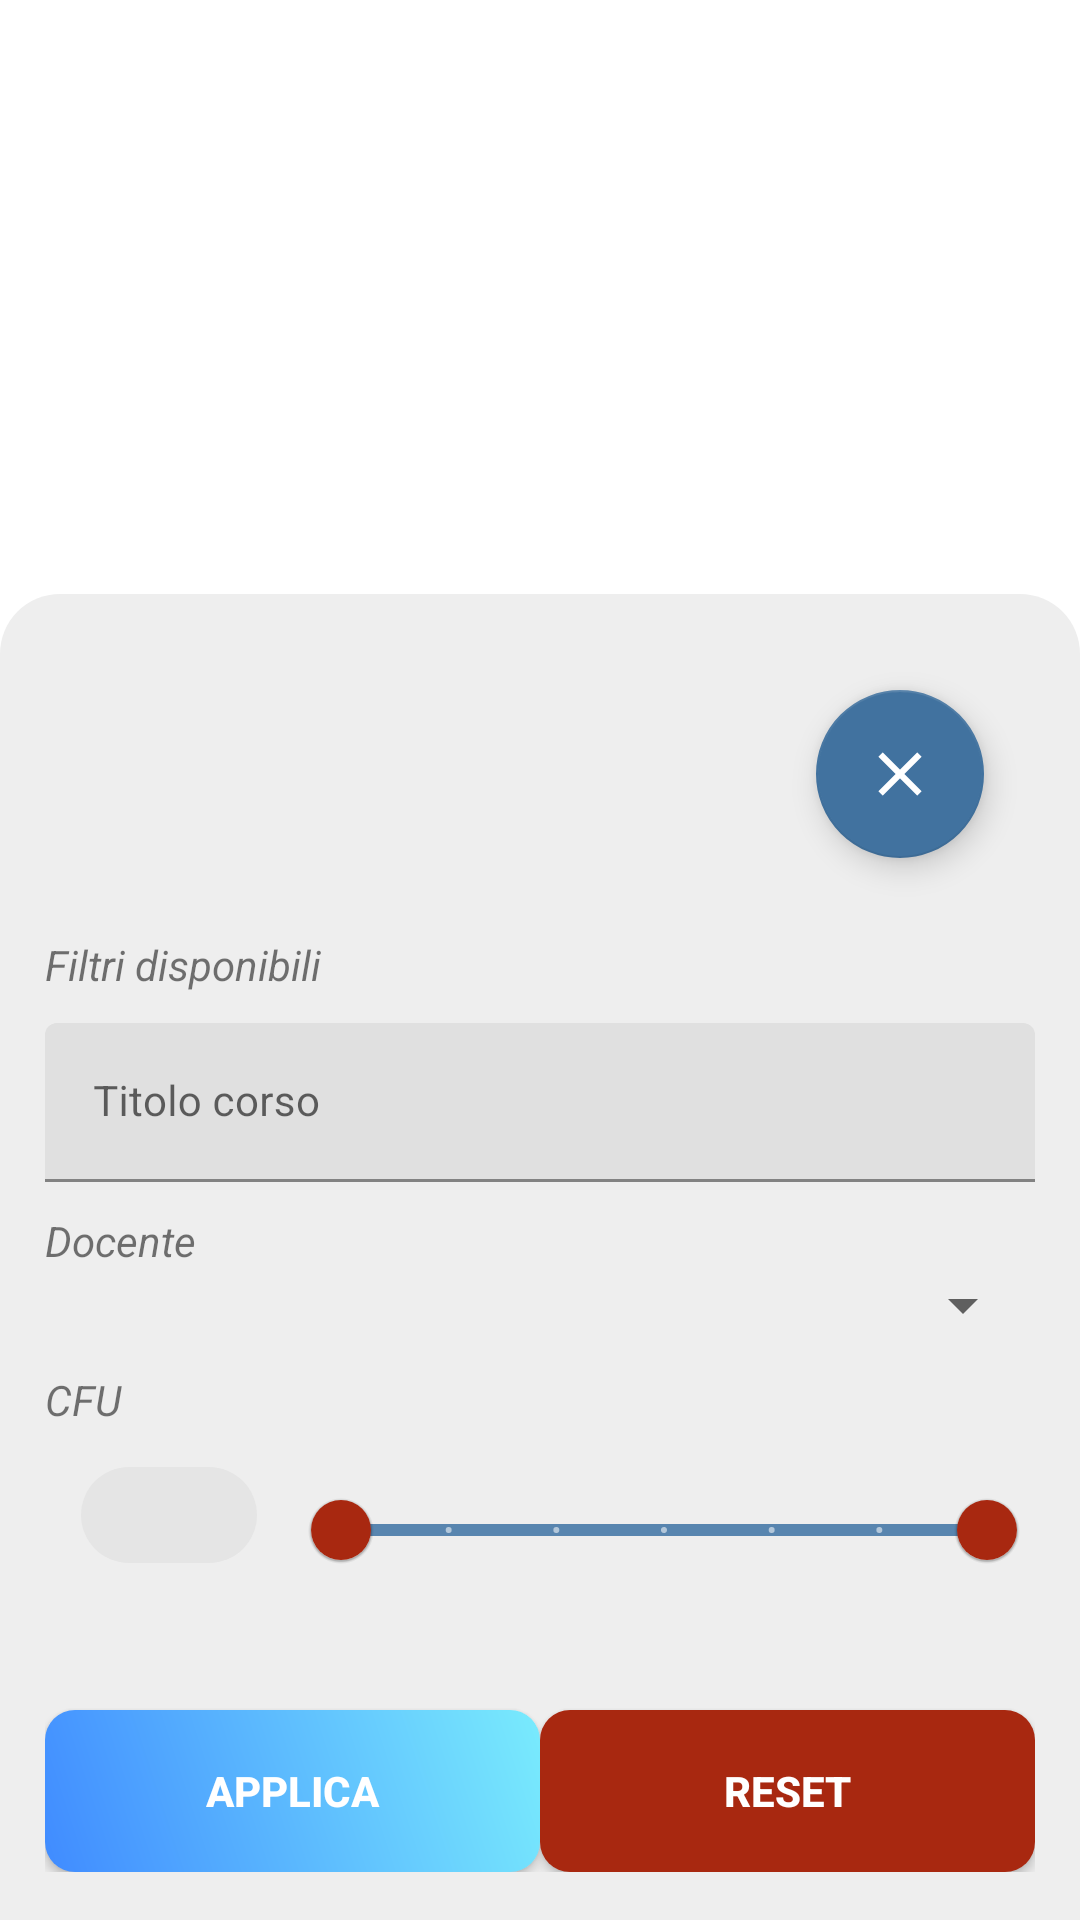

Icon bounding boxes for this 1080*1920 phone screenshot, format [x1, y1, x2, y2]:
remove: [816, 690, 984, 858]
